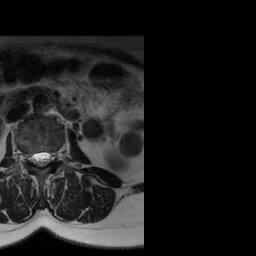CCS_normal: (38, 143, 44, 174)
LFS_normal: (52, 144, 60, 166)
LLS_normal: (44, 144, 52, 170)
RFS_normal: (23, 144, 31, 168)
RLS_normal: (31, 144, 38, 169)
